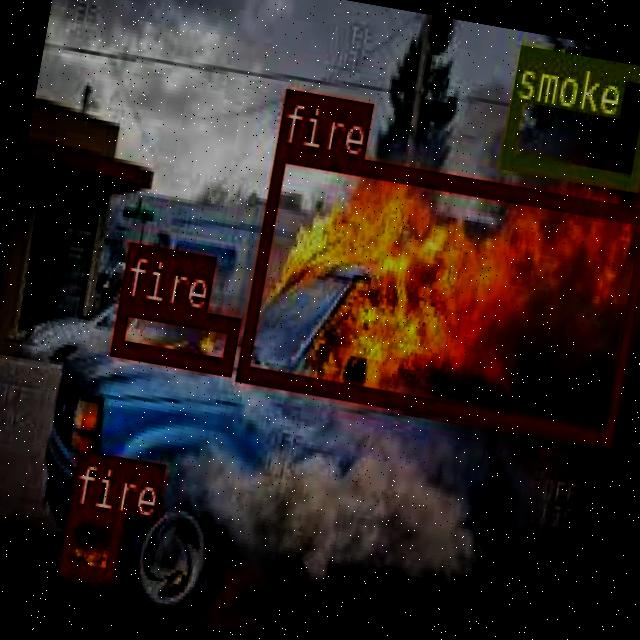fire: (234, 140, 640, 443), (108, 294, 238, 372), (56, 504, 122, 583)
smoke: (499, 43, 640, 188)
